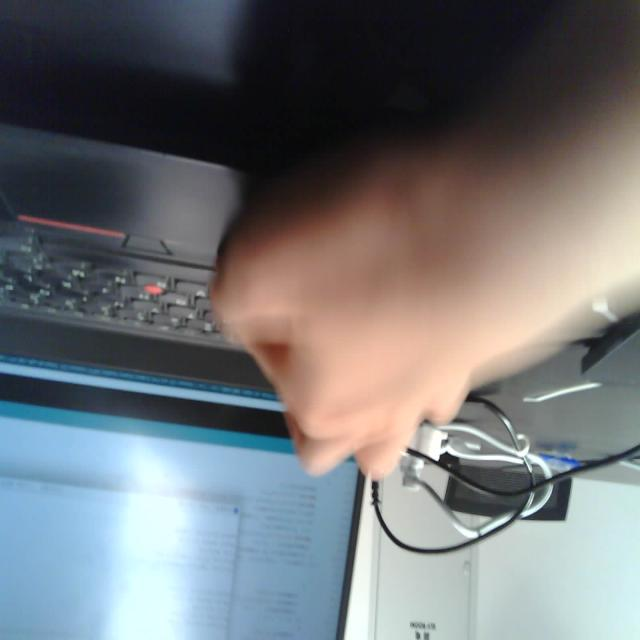keyboard-with-hands: (0, 119, 461, 380)
